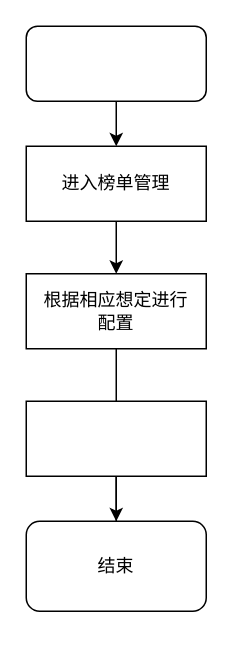
The diagram is 233 pixels wide and 650 high, and some of its shapes have lost their labels. The shapes that lost their labels are listed below. From the top down, each one's centre as x and y in pixels, then its label:
At (115,63): "开始".
At (115,438): "返回相应环境下 Top 排名模型".
